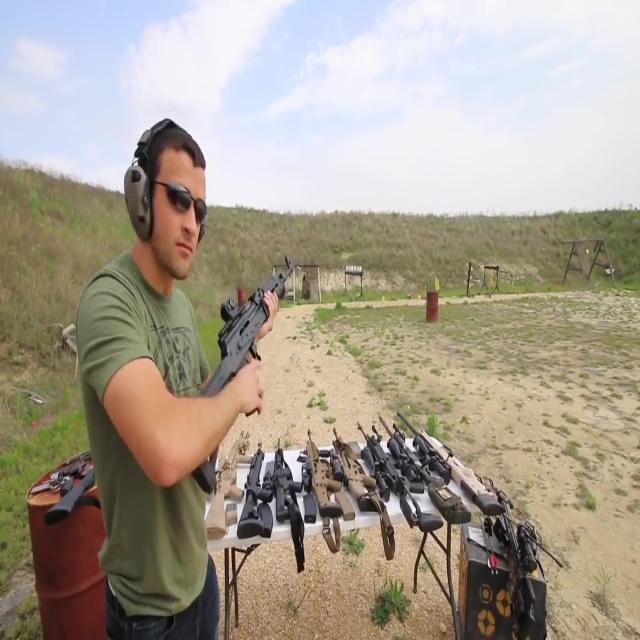Weapon: (204, 437, 530, 547), (34, 407, 188, 629), (153, 253, 319, 427)
